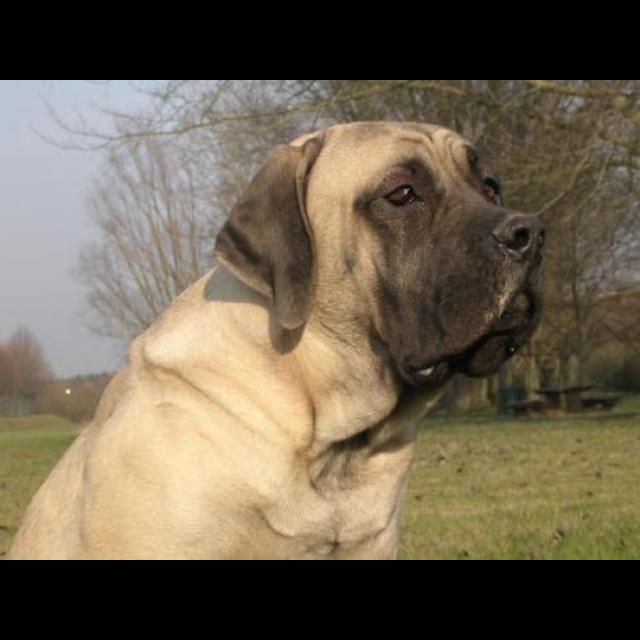mastiff: (2, 119, 547, 559)
